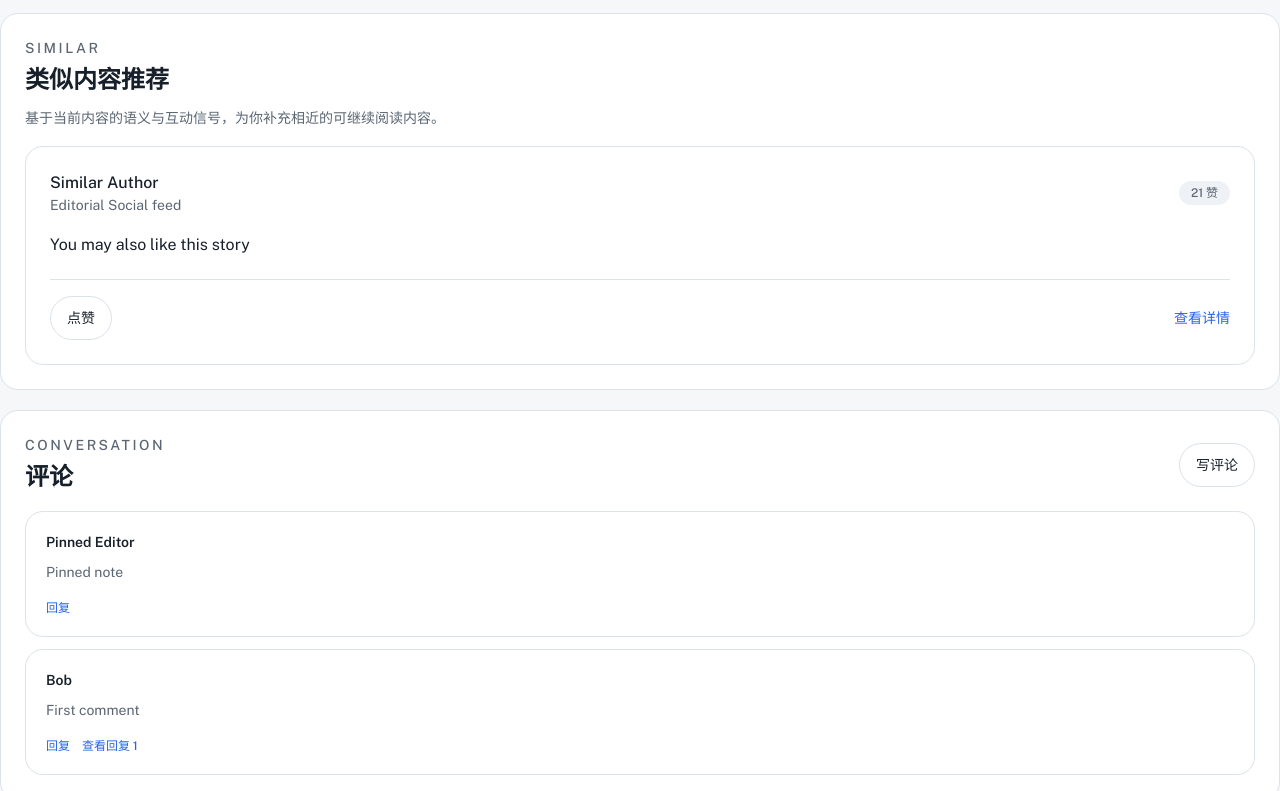
Scenario: loads hot comments and expands replies
(page scrolled)
Click the button with test id "view-replies-c1" at (110, 746), box [82,738,138,754]
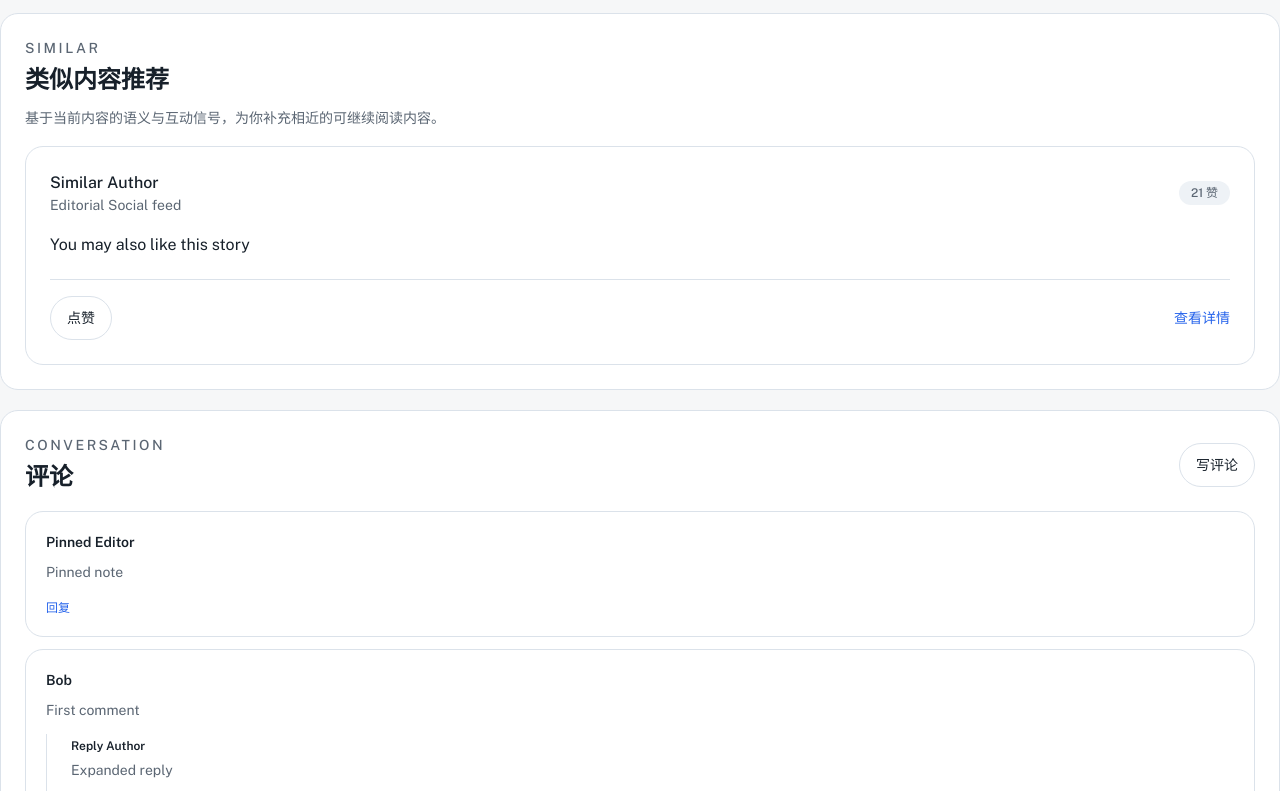
Expected: the text "Expanded reply" is shown, [71,762,173,778]
